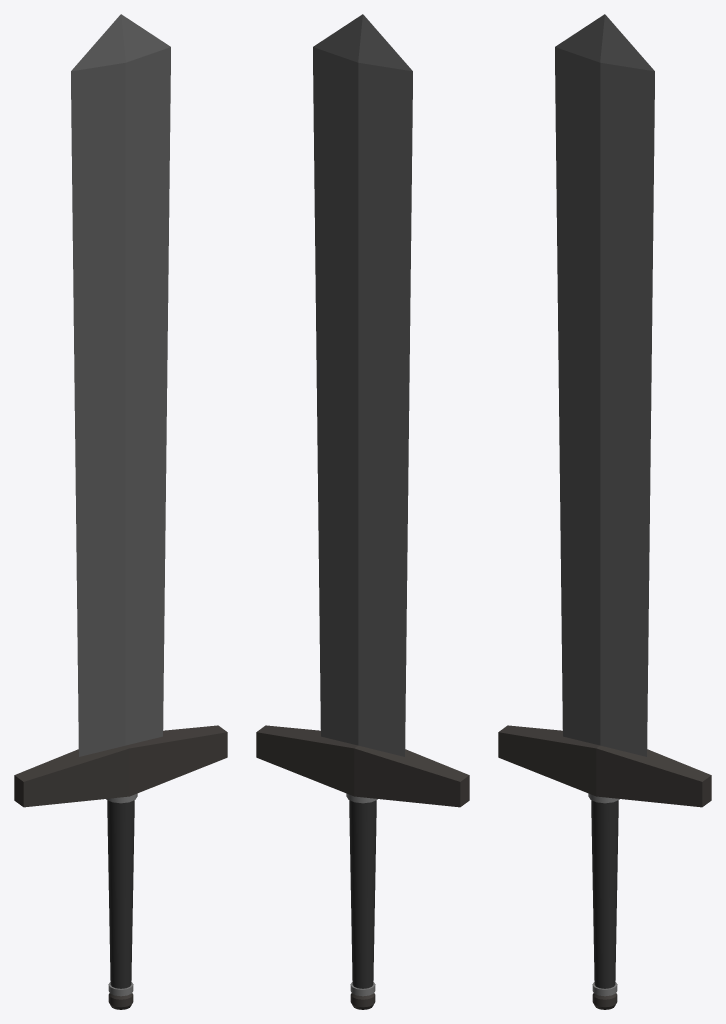
Rendered from Great Sword.glb.
3 views of the same model, side by side, from view 1: azimuth 30°, elevation 25°; view 2: azimuth 150°, elevation 25°; view 3: azimuth 330°, elevation 25° (orthographic).
Parts seen in each view (by area): view 1: Great Sword; view 2: Great Sword; view 3: Great Sword.
Boxes of the visible parts, bbox=[...] form: Great Sword: bbox=[14, 14, 227, 1009]; Great Sword: bbox=[256, 14, 469, 1009]; Great Sword: bbox=[498, 14, 711, 1009].
Bounding box in the file's own units: 0.2927 × 1.36 × 0.0436.
Materials: 1 (1 with a texture image).
